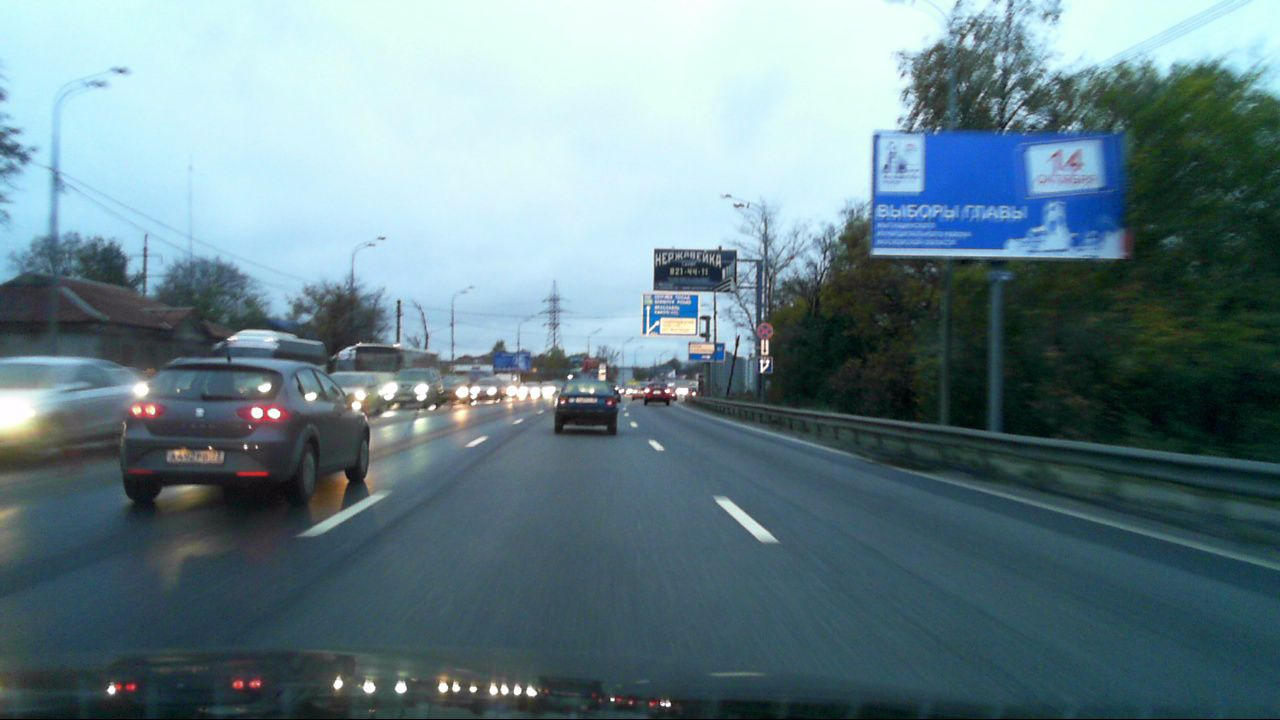No Parking: (756, 322, 773, 339)
